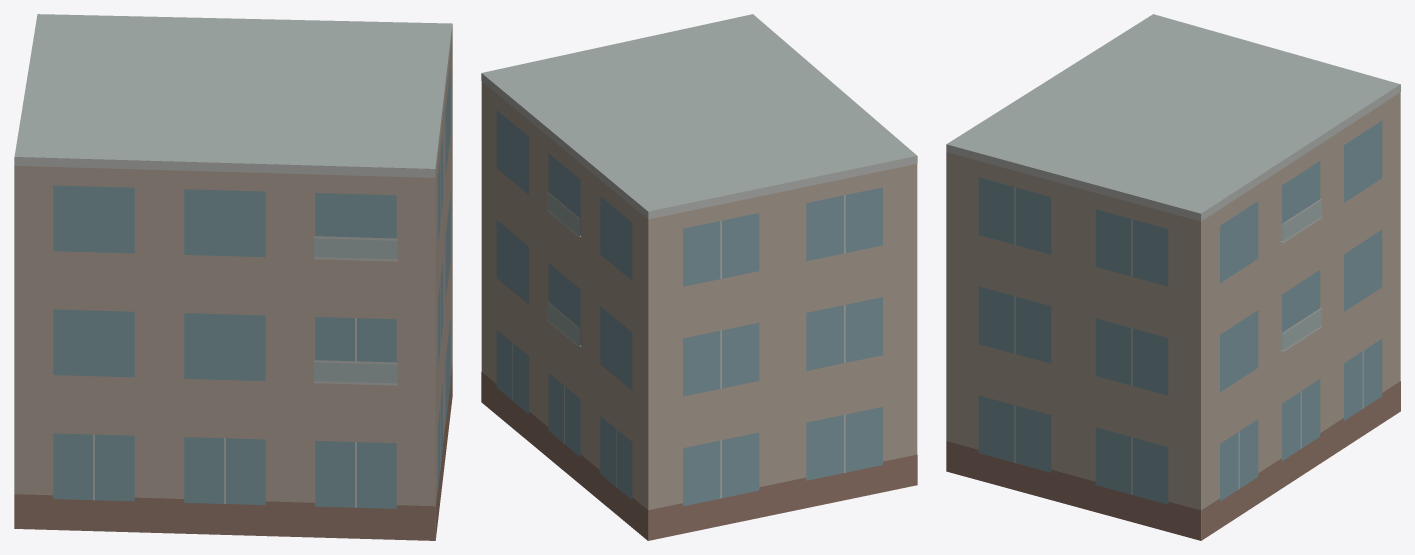
File: survey-upis-32613860.glb
3 renders of one model, left to right at view 1: azimuth 30°, elevation 25°; view 2: azimuth 150°, elevation 25°; view 3: azimuth 270°, elevation 25°, orthographic. The views are drawn at different scales.
Visible parts, largest first — view 1: survey-upis-32613860.tmp; view 2: survey-upis-32613860.tmp; view 3: survey-upis-32613860.tmp.
Part boxes in pixels (box(x1,y1,x2,y2)): survey-upis-32613860.tmp: box(14, 14, 452, 540); survey-upis-32613860.tmp: box(481, 14, 917, 540); survey-upis-32613860.tmp: box(946, 14, 1400, 540).
Bounding box in the file's own units: 13.36 × 10.2 × 12.85.
